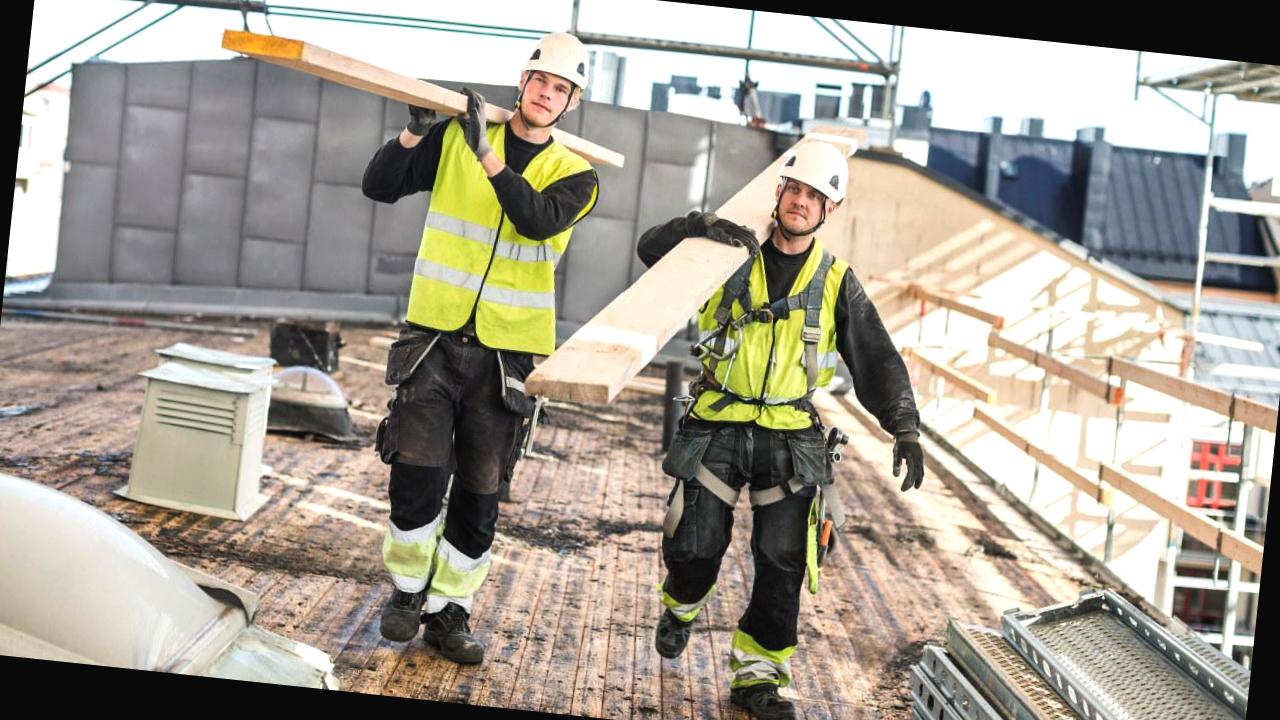helmet: (769, 133, 867, 204), (511, 32, 596, 96)
person: (346, 16, 617, 662), (643, 117, 894, 706)
